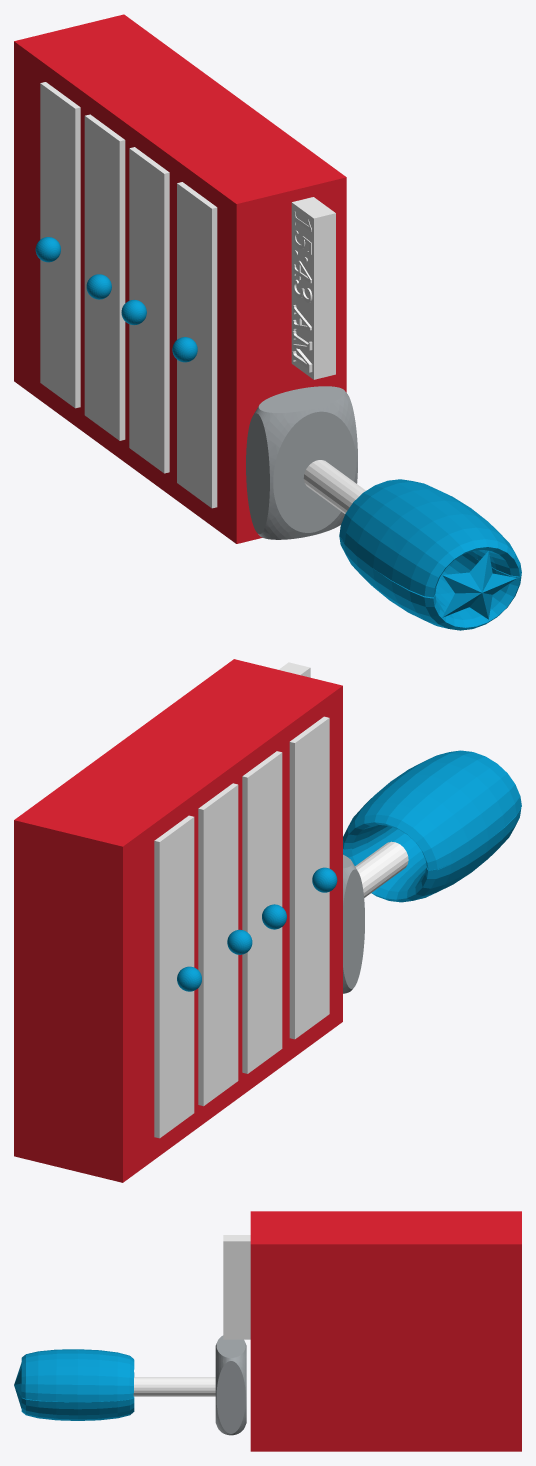
Rendered from tinker.obj.
3 renders of one model, top to bottom at view 1: azimuth 30°, elevation 25°; view 2: azimuth 150°, elevation 25°; view 3: azimuth 270°, elevation 25°, orthographic. The views are drawn at different scales.
Visible parts, largest first — view 1: group_0_15277357, group_0_16448250, group_0_40919, group_0_10988977; view 2: group_0_15277357, group_0_16448250, group_0_40919, group_0_10988977; view 3: group_0_15277357, group_0_40919, group_0_16448250, group_0_10988977.
Boxes of the visible parts, x1,y1,x2,y2 form: group_0_15277357: (14, 14, 346, 543); group_0_16448250: (40, 82, 365, 513); group_0_40919: (35, 237, 521, 630); group_0_10988977: (246, 386, 357, 539); group_0_15277357: (14, 659, 342, 1182); group_0_16448250: (154, 662, 408, 1138); group_0_40919: (177, 750, 521, 991); group_0_10988977: (343, 854, 364, 993); group_0_15277357: (250, 1211, 521, 1451); group_0_40919: (14, 1349, 134, 1420); group_0_16448250: (133, 1235, 250, 1396); group_0_10988977: (215, 1335, 246, 1435).
Size of the model in its own units: 25 by 59 by 131.
